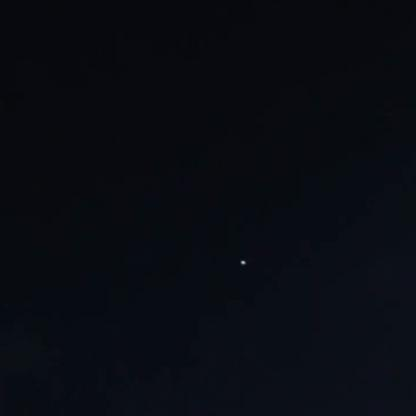ball: (237, 256, 251, 268)
